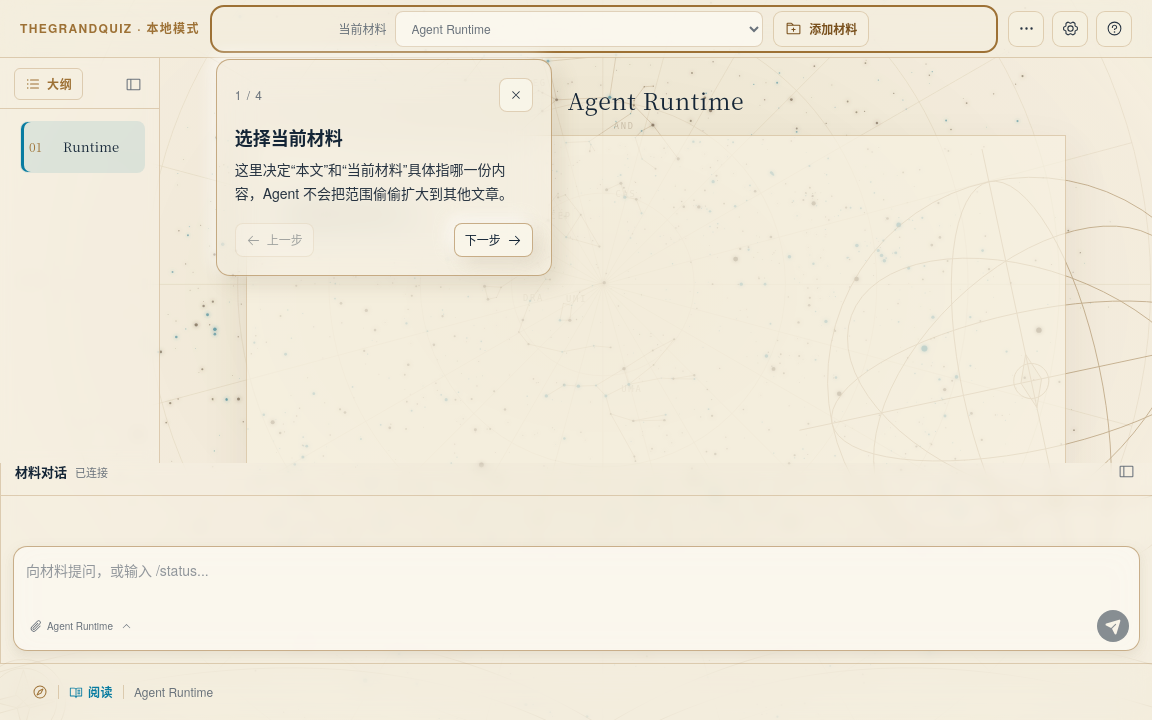
Test: Sidebar context switching › closes the management menu when the user clicks elsewhere
(page scrolled)
expect the heading "Agent Runtime" is shown: met, box [568,83,744,117]
What coordinates should you click on to do the following:
click the button named "打开管理菜单"
I would click on:
 (1026, 28)
Its box is [1008,10,1044,46].
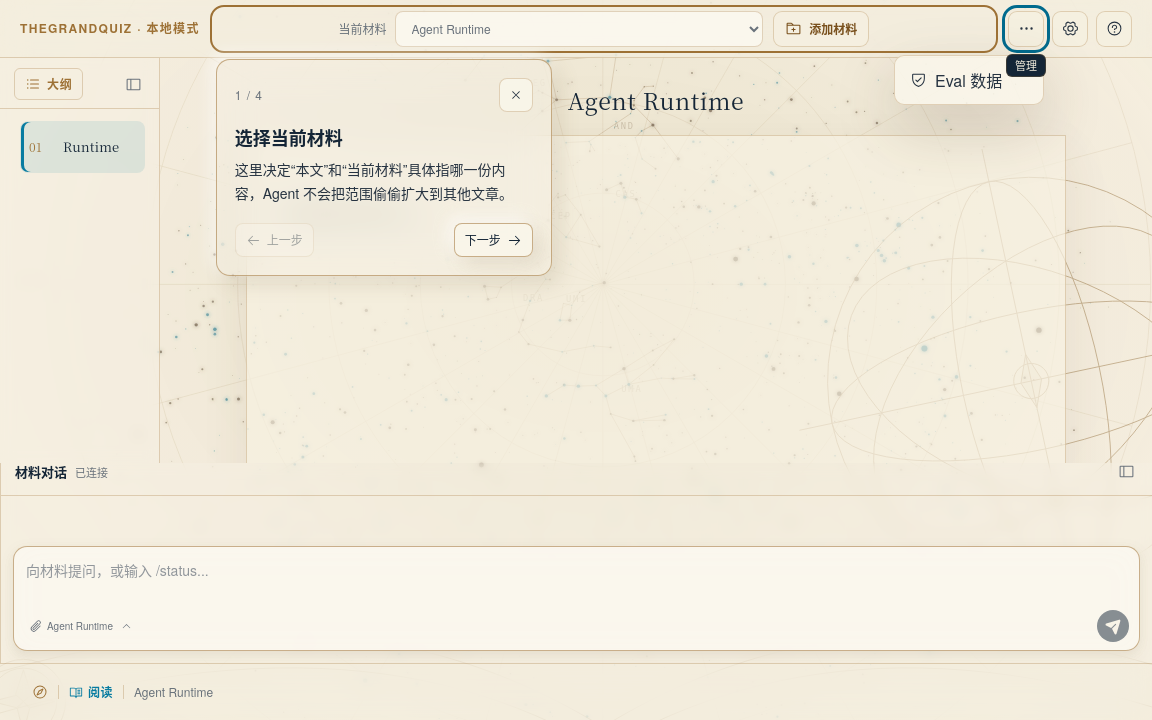
expect the menu item "Eval 数据" is shown: met, box [901,62,1037,98]
What coordinates should you click on to do the following:
click the heading "Agent Runtime"
I would click on:
 (656, 100)
Its box is [568,83,744,117].
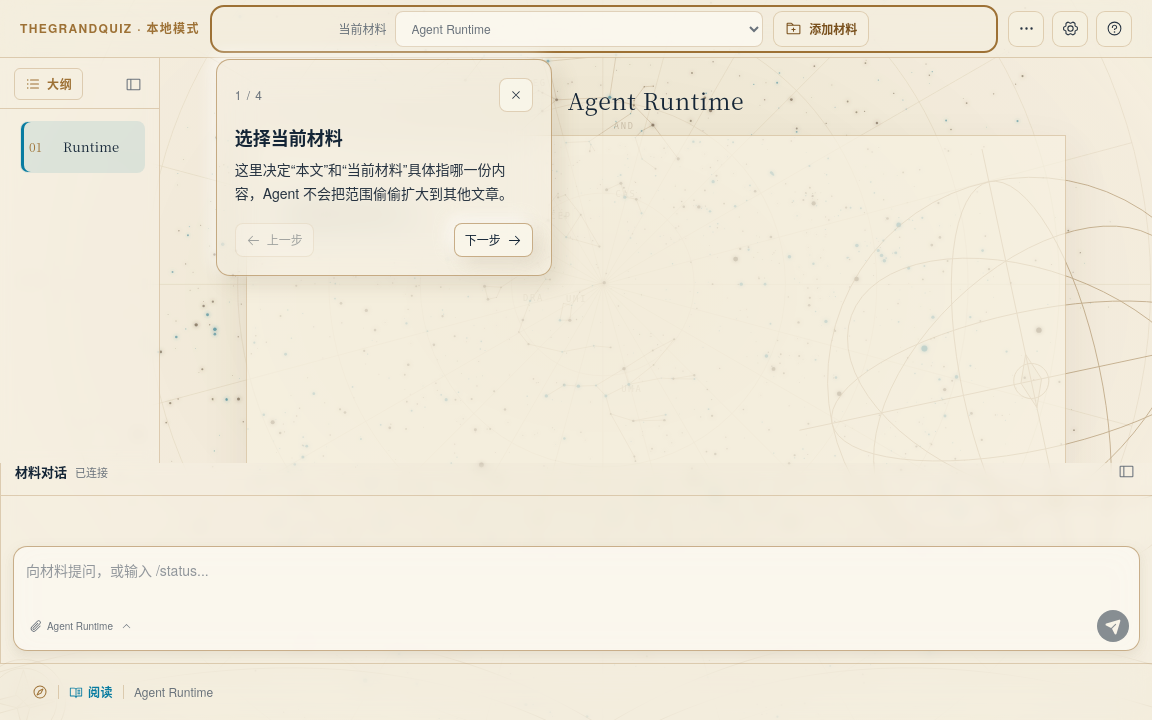
expect the menu item "Eval 数据" is gone: met
